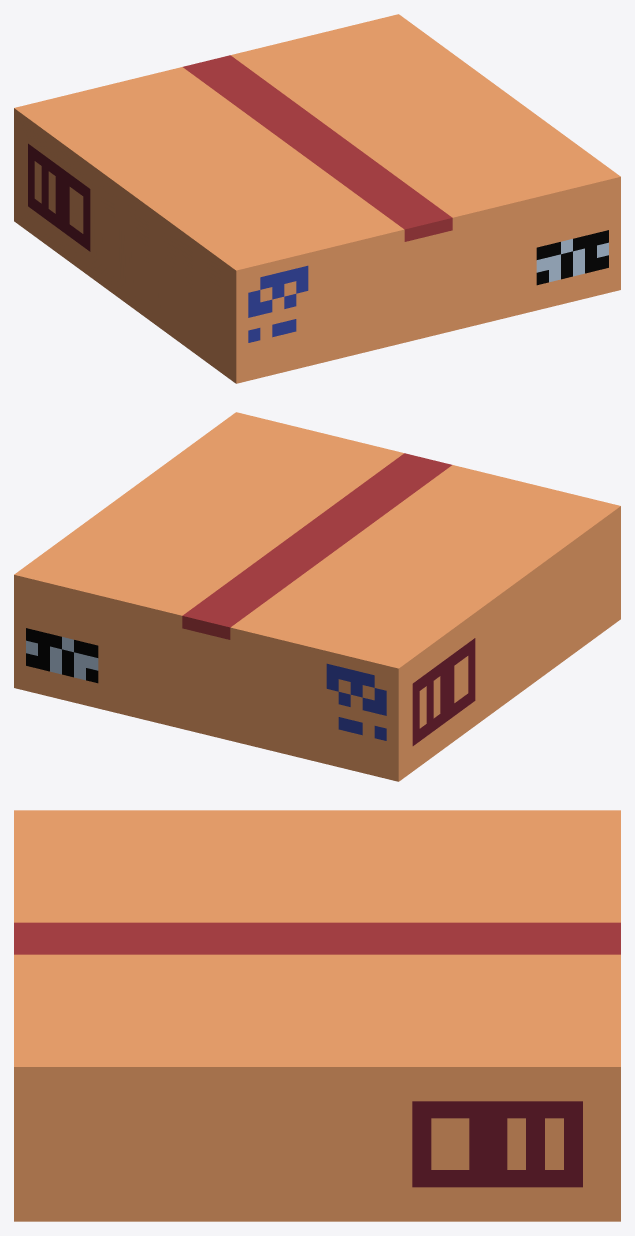
The model's file is caja carton 1.obj.
The picture shows the model from 3 angles, top to bottom: view 1: azimuth 30°, elevation 25°; view 2: azimuth 150°, elevation 25°; view 3: azimuth 270°, elevation 25°; orthographic projection. The views are drawn at different scales.
Bounding box in the file's own units: 3.2 × 0.9 × 3.2.
Materials: 1 (1 with a texture image).
